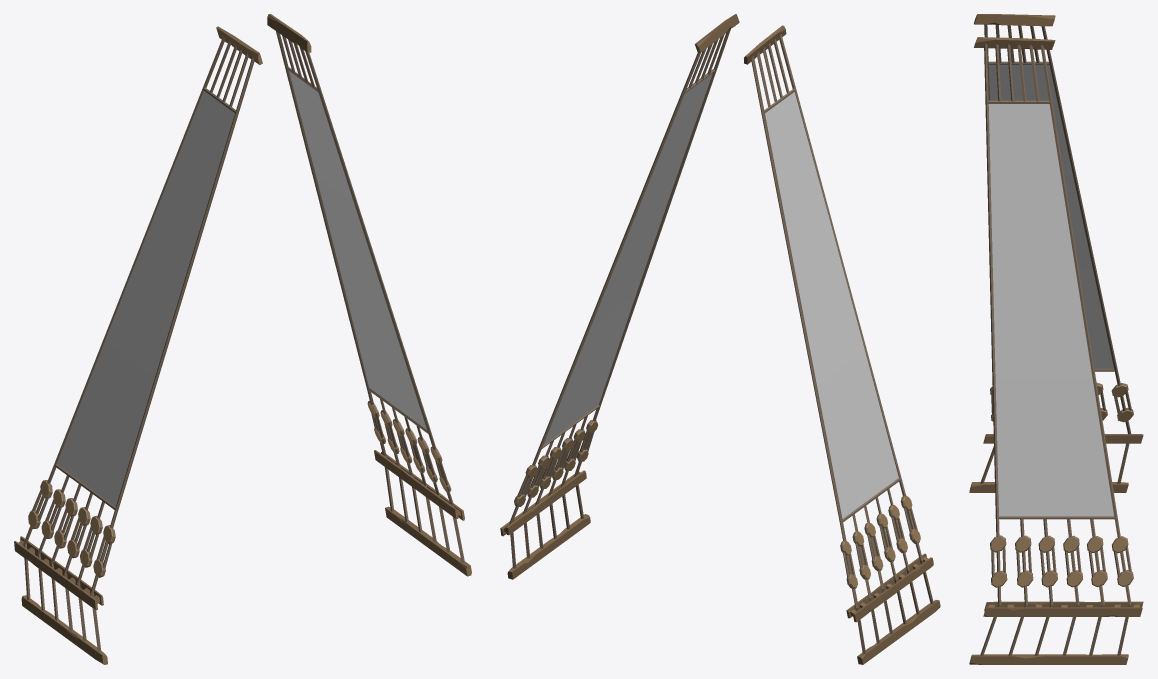
Rendered from SM_Veh_Ship_L_01_Ratlines_Middle_02.fbx.
3 views of the same model, side by side, from view 1: azimuth 30°, elevation 25°; view 2: azimuth 150°, elevation 25°; view 3: azimuth 270°, elevation 25° (orthographic). The views are drawn at different scales.
Parts seen in each view (by area): view 1: SM_Veh_Ship_L_01_Ratlines_Middle_02; view 2: SM_Veh_Ship_L_01_Ratlines_Middle_02; view 3: SM_Veh_Ship_L_01_Ratlines_Middle_02.
Part boxes in pixels (<box>): SM_Veh_Ship_L_01_Ratlines_Middle_02: <box>14,14,471,664</box>; SM_Veh_Ship_L_01_Ratlines_Middle_02: <box>500,14,940,664</box>; SM_Veh_Ship_L_01_Ratlines_Middle_02: <box>969,14,1143,664</box>.
Bounding box in the file's own units: 1050 × 1548 × 442.
